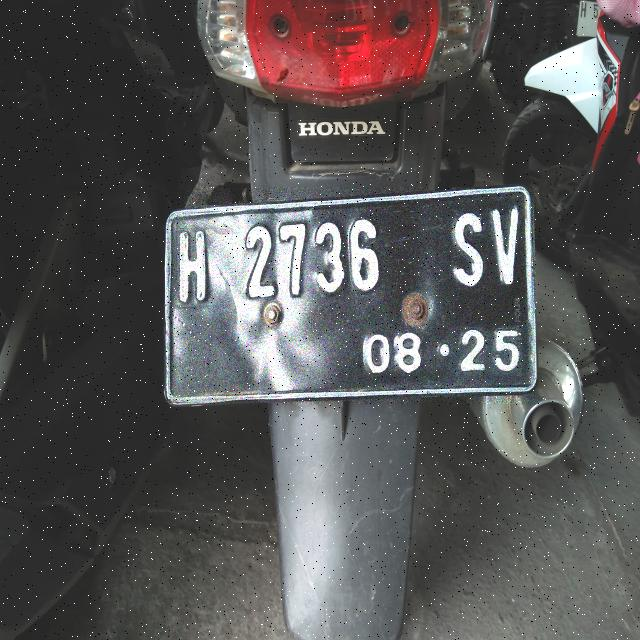plate: (166, 188, 535, 403)
